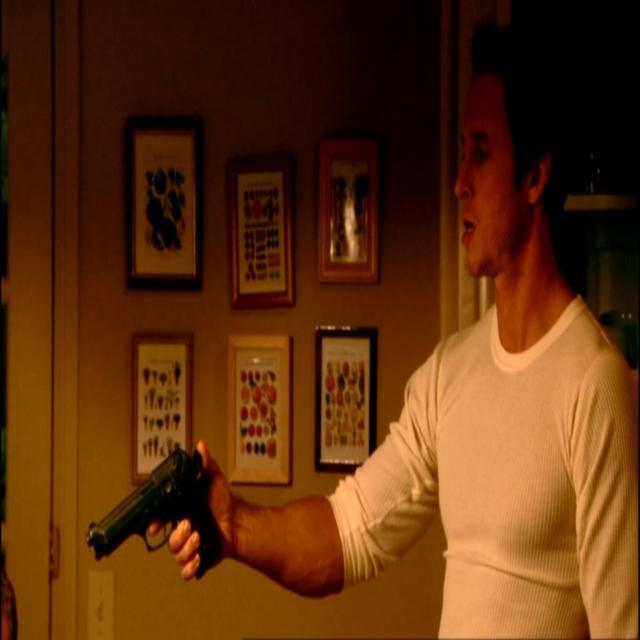gun-knife-thesis - v11 Yolov5 augmented: (83, 437, 229, 588)
